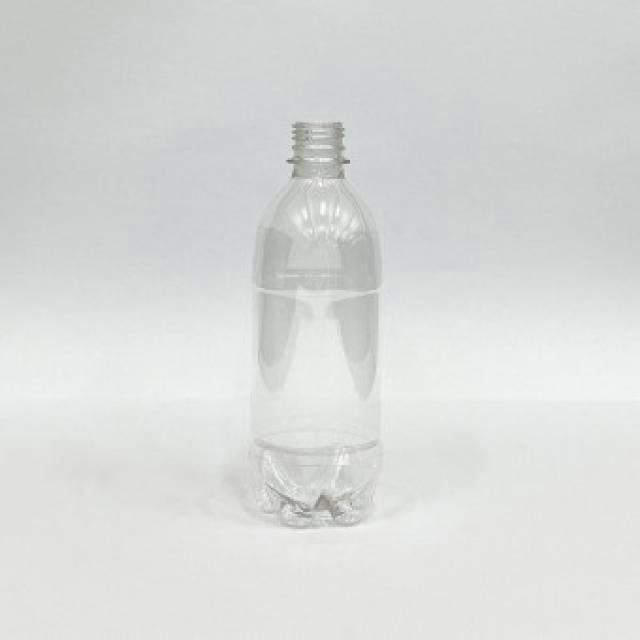bottle: (250, 120, 384, 529)
